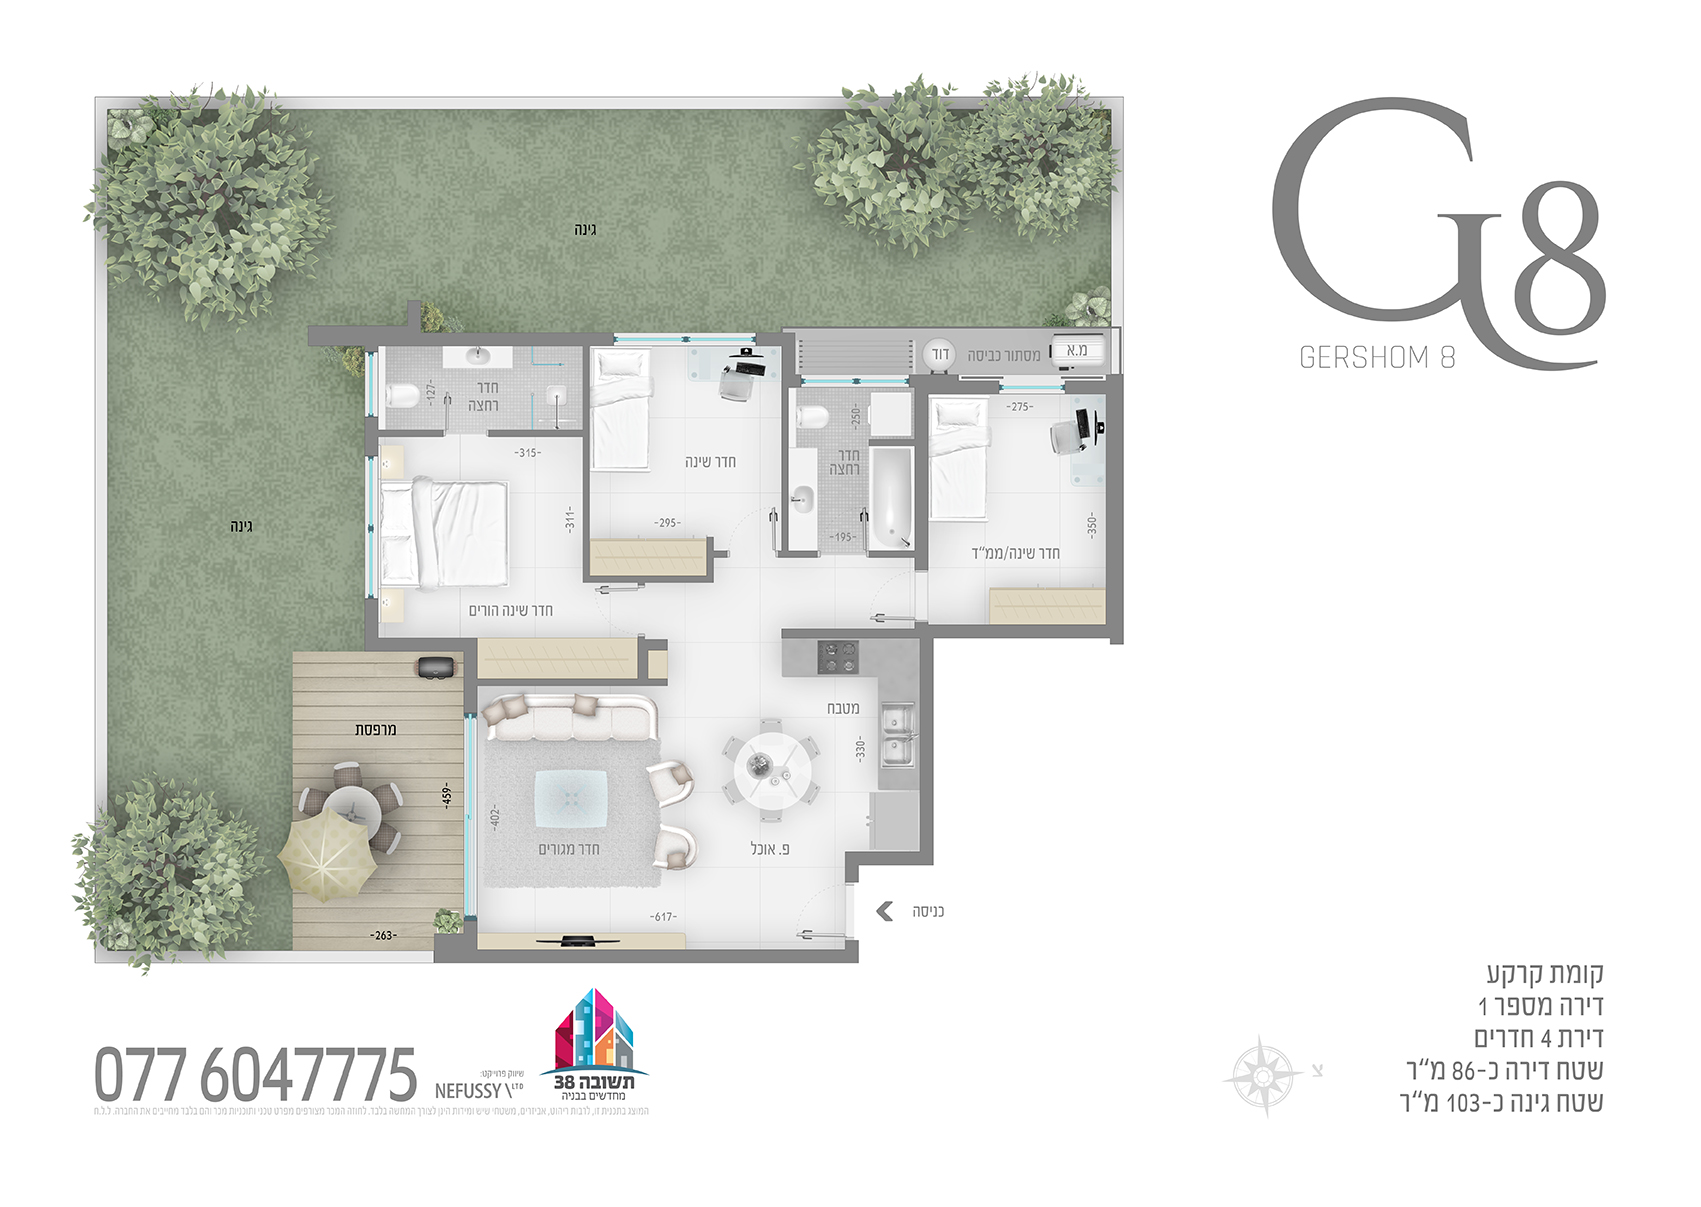wall: (434, 948, 858, 964), (1104, 383, 1124, 627), (920, 639, 931, 863), (419, 332, 614, 344), (364, 639, 477, 652), (462, 679, 666, 686), (844, 850, 920, 865), (781, 630, 918, 637)
window: (464, 717, 476, 917), (613, 332, 756, 346), (364, 455, 378, 601), (800, 374, 911, 388), (364, 351, 379, 419), (999, 379, 1065, 393)
